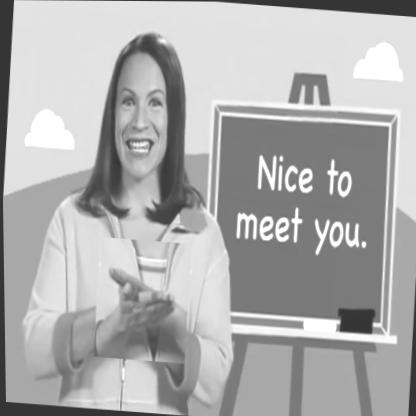NiceToMeetYou: (91, 238, 192, 364)
